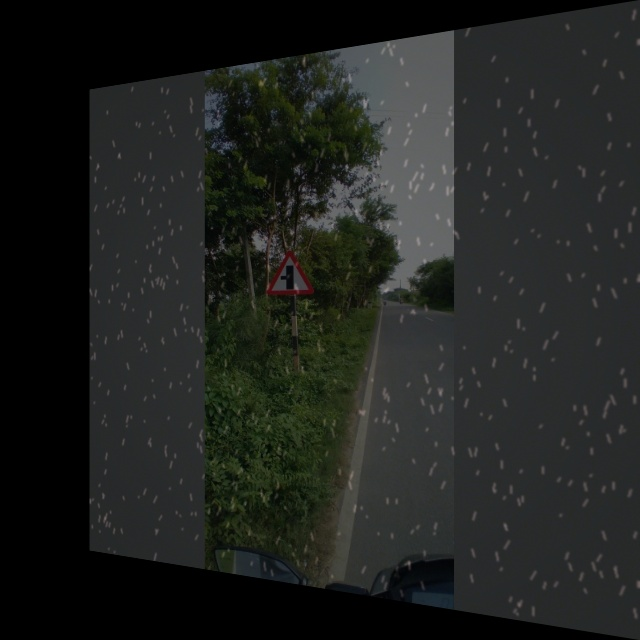Side_Road_Left: (263, 247, 319, 301)
